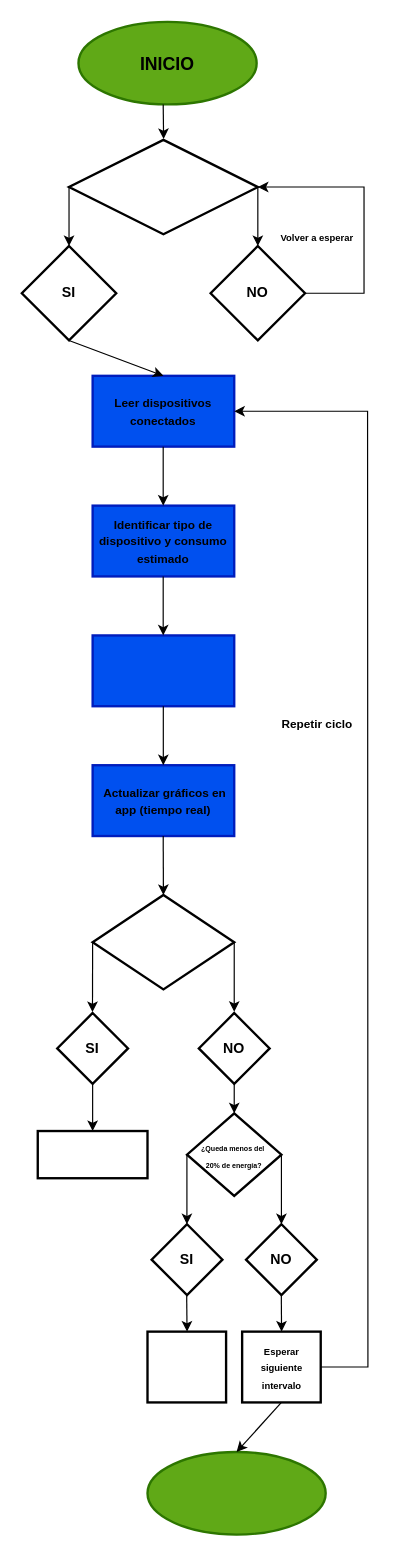
Some shapes in this 398 by 1555 pixel diagram are drawn without their labels. Here are the shapes that lost their labels. From the top down, the centre of each, then its label:
At (162,186): "¿El sistema está energizado?".
At (163,670): "Registrar datos en base de datos".
At (163,941): "¿Se está excediendo la capacidad del generador?".
At (92,1154): "Mostrar alerta de sobrecarga al usuario".
At (186,1366): "Mostrar advertencia crítica".
At (236,1492): "FIN".
